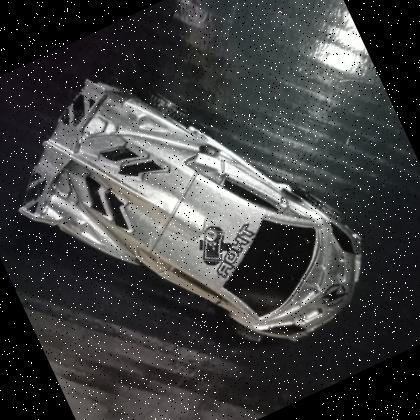Car: (17, 76, 363, 340)
